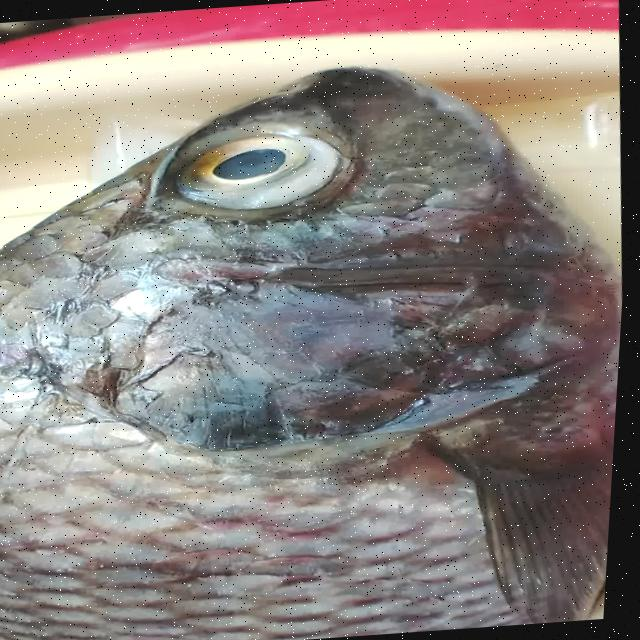Fresh: (0, 362, 623, 640), (118, 107, 371, 240)
